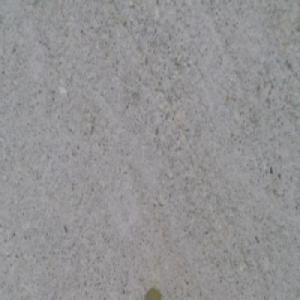BoltNutSet: (145, 285, 161, 299)
